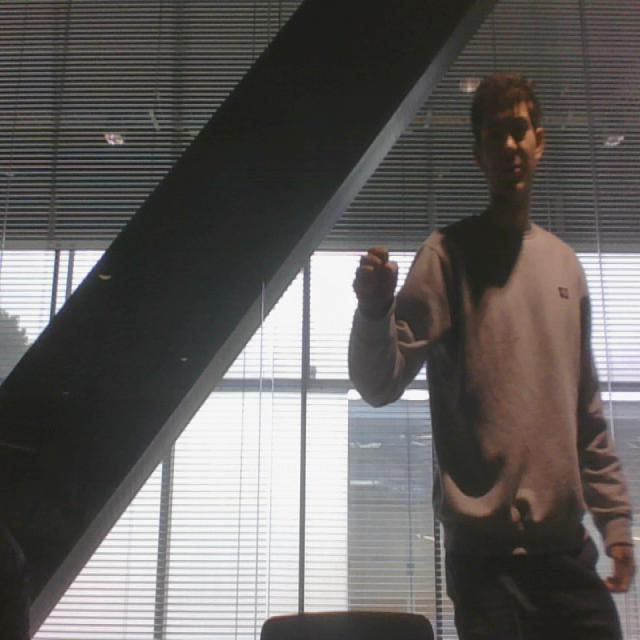stop: (347, 237, 401, 321)
